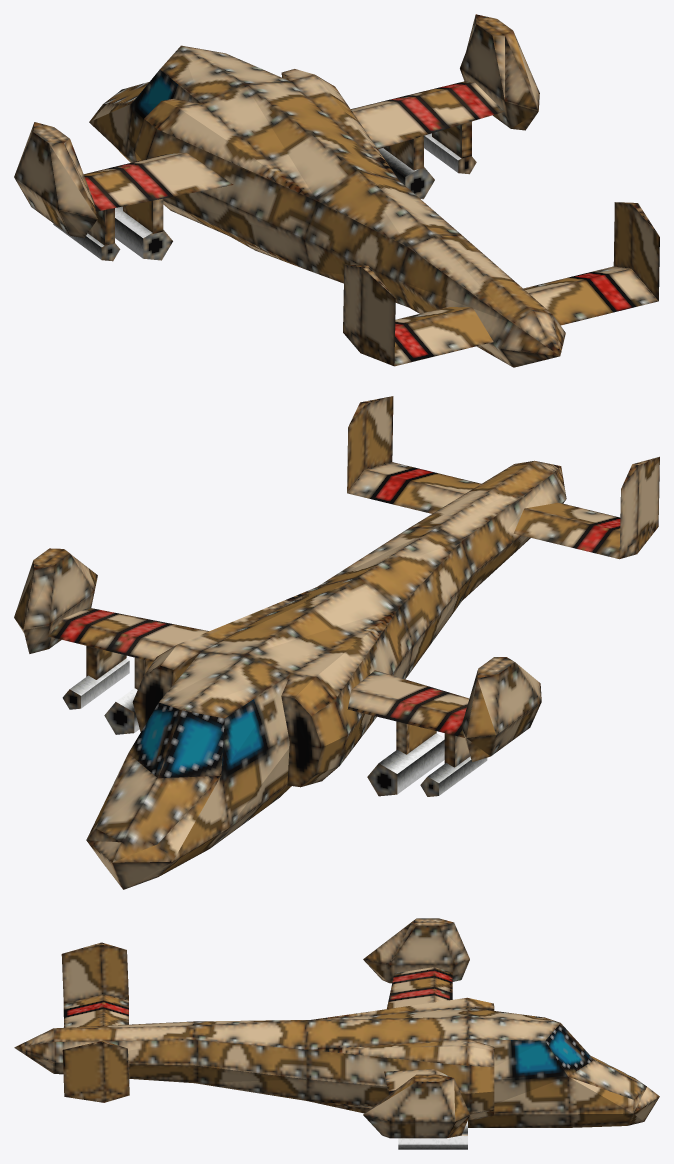
Rendered from swine.obj.
3 renders of one model, top to bottom at view 1: azimuth 30°, elevation 25°; view 2: azimuth 150°, elevation 25°; view 3: azimuth 270°, elevation 25°, orthographic. The views are drawn at different scales.
Visible parts, largest first — view 1: Swine; view 2: Swine; view 3: Swine.
Part boxes in pixels (box(x1,y1,x2,y2)): Swine: box(14, 14, 659, 367); Swine: box(14, 396, 659, 889); Swine: box(14, 918, 659, 1149).
Size of the model in its own units: 16.68 by 6.01 by 26.89.
Materials: 1 (1 with a texture image).
